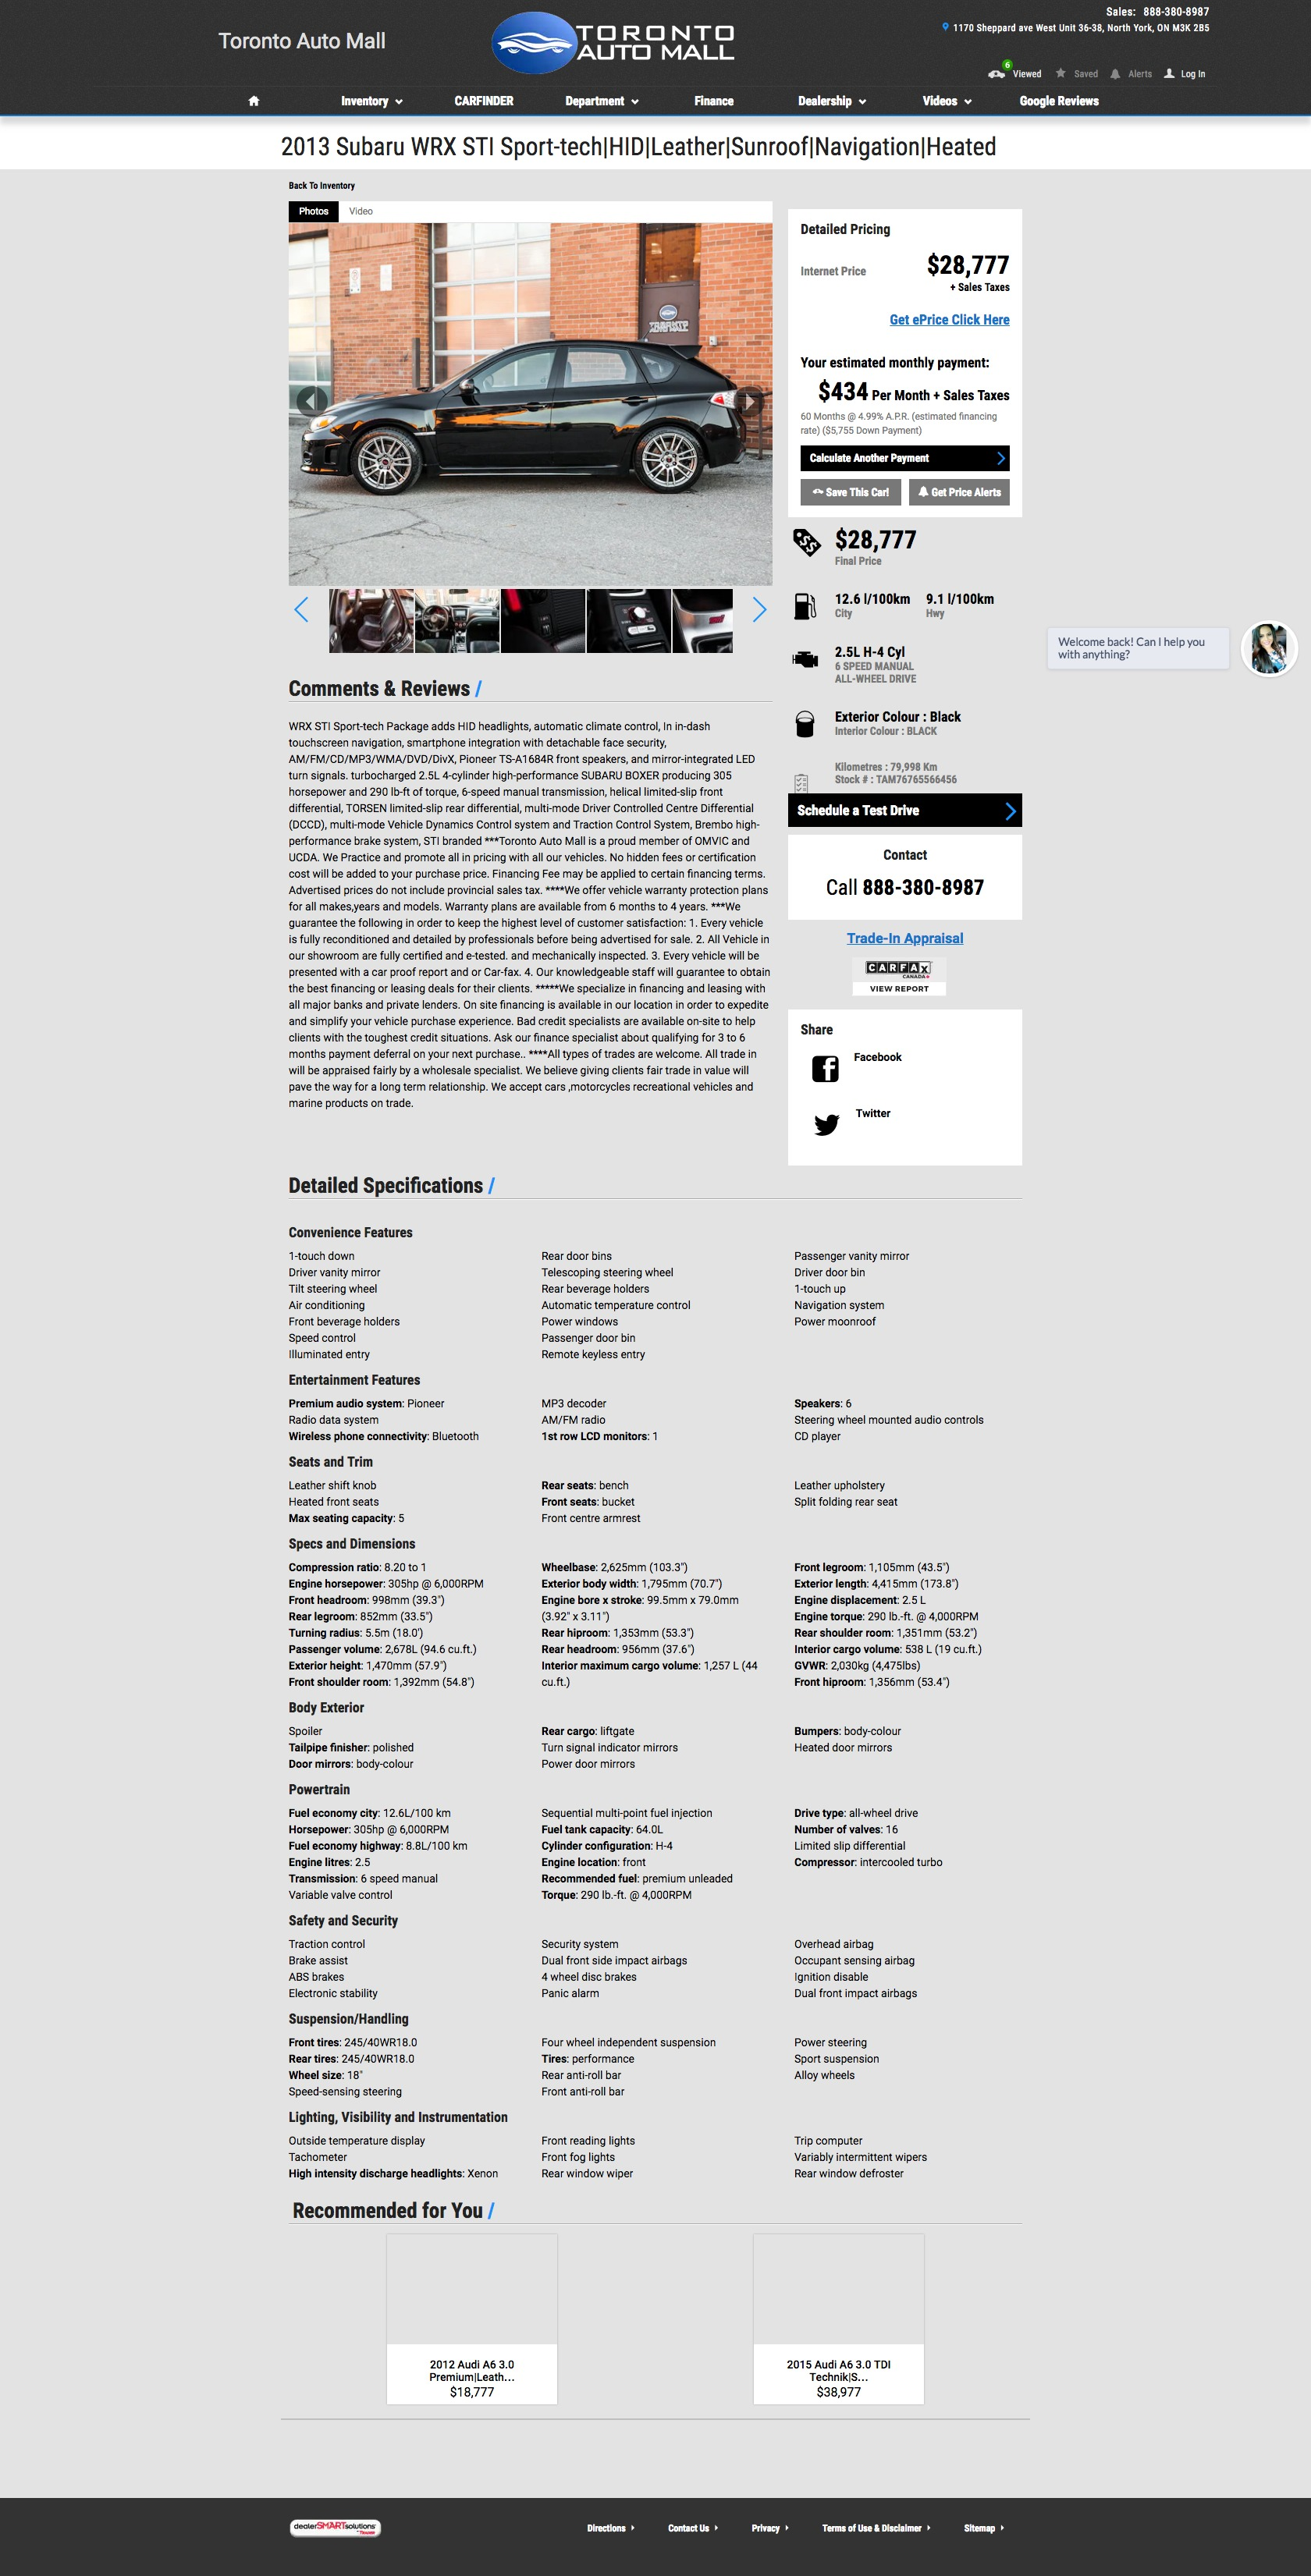car: (752, 597, 768, 624)
